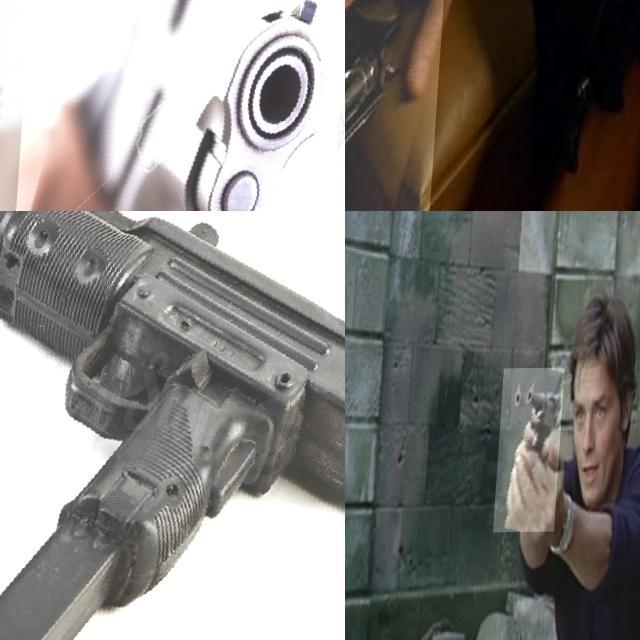gun-knife-thesis - v11 Yolov5 augmented: (0, 211, 345, 640), (10, 0, 345, 211), (345, 0, 449, 211), (498, 368, 568, 533)
